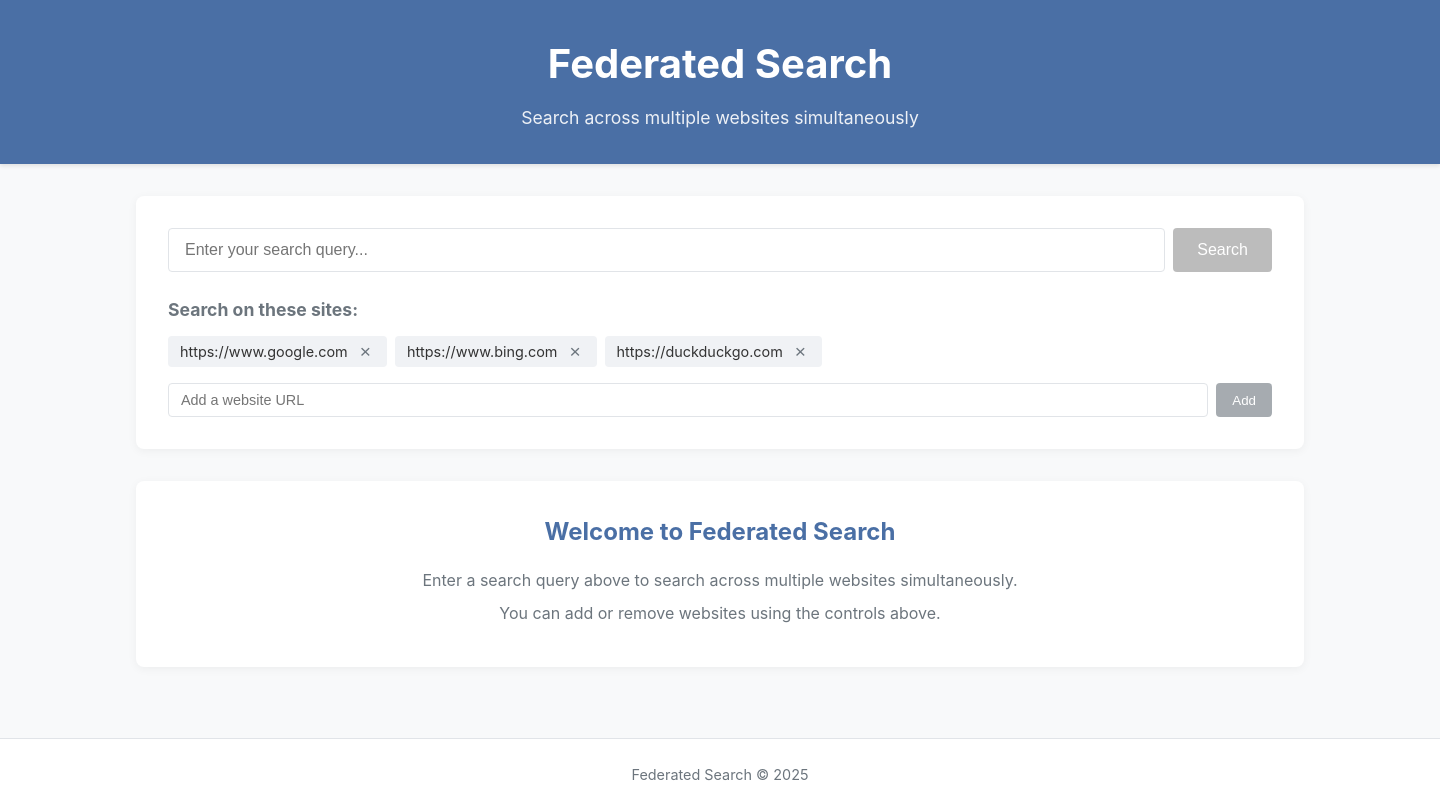
App › renders results after successful search
Step 1. Type "react" into the field with placeholder "Enter your search query..." → {"x": 667, "y": 250}, box [168,228,1165,272]
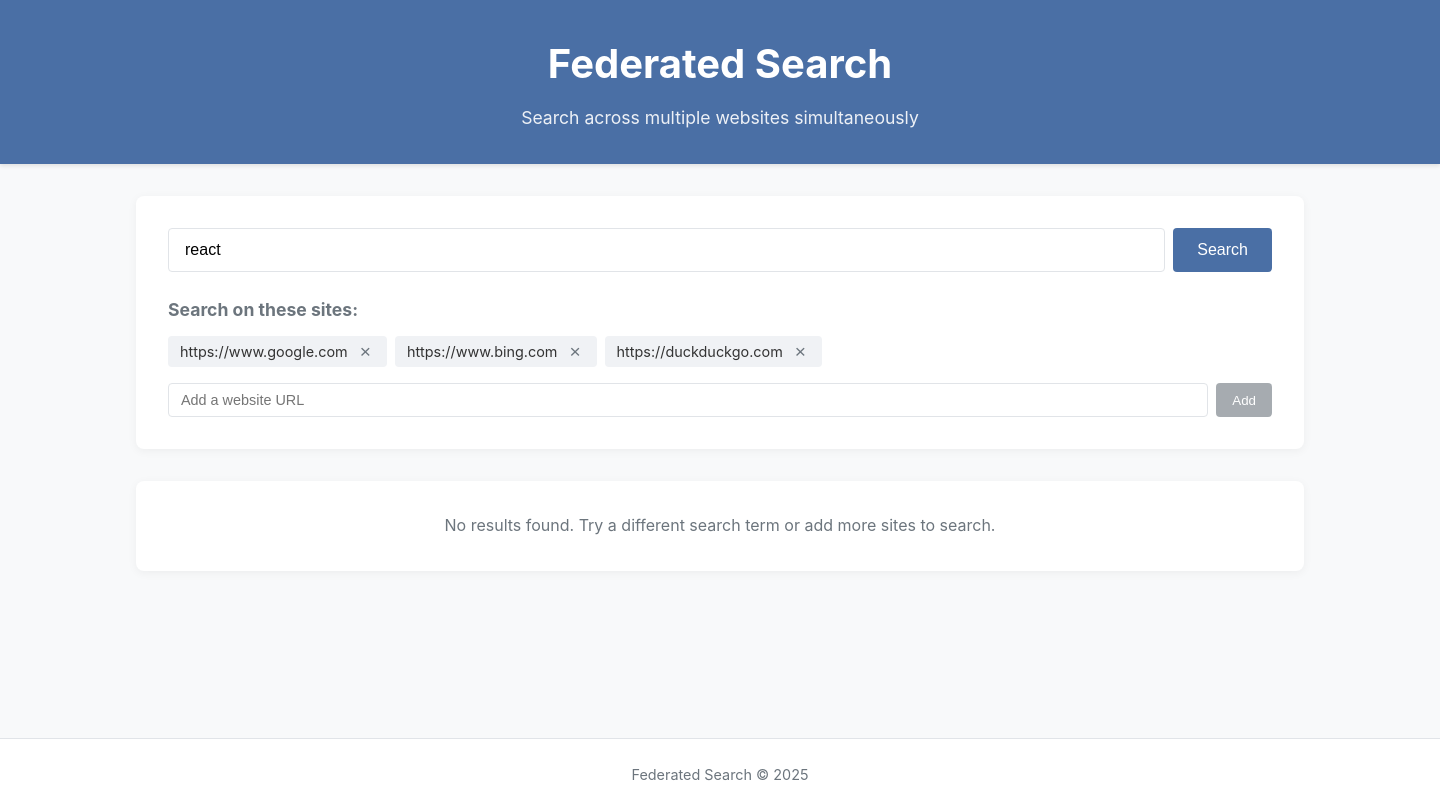
Step 2. Click the button "Search" → {"x": 1223, "y": 250}, box [1173,228,1272,272]
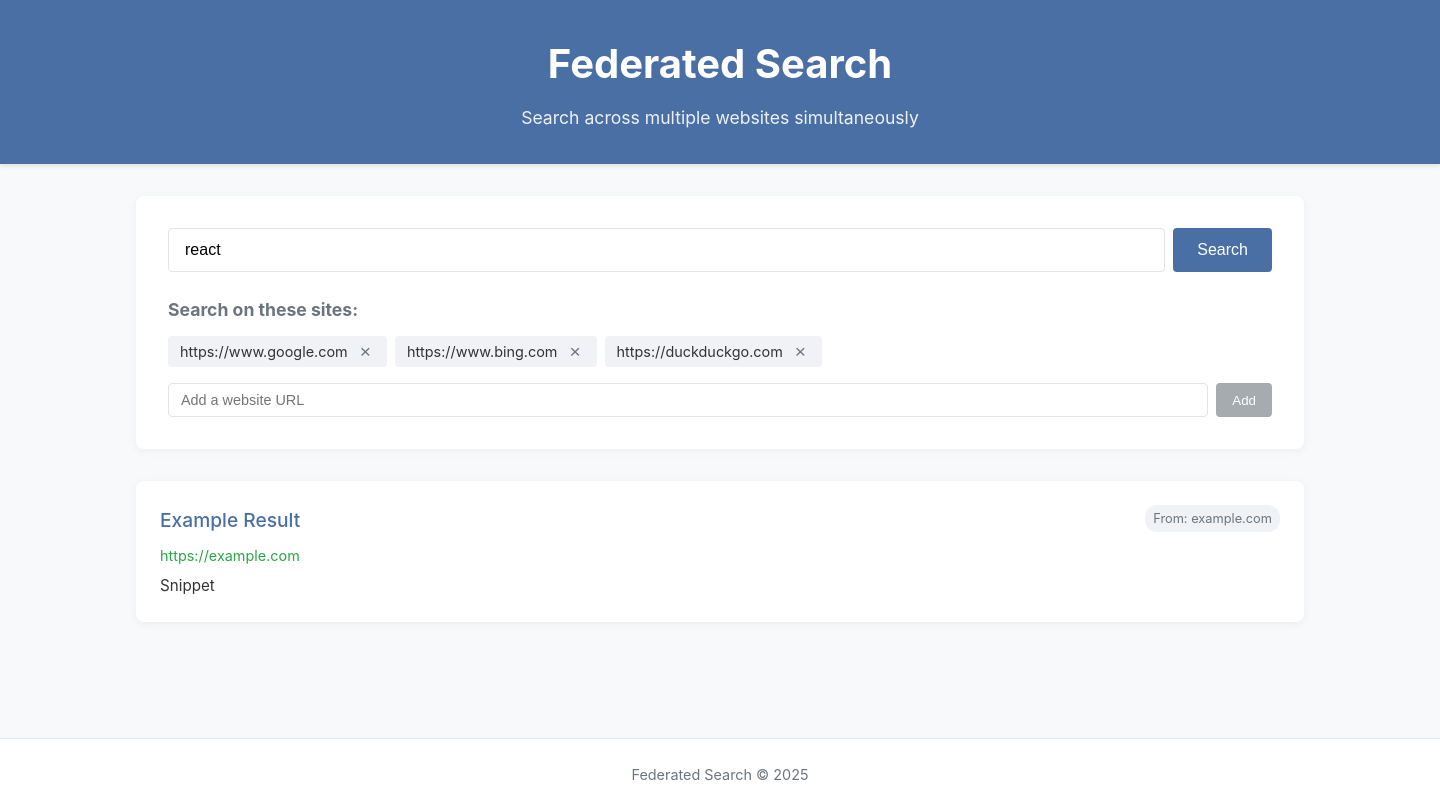
expect the link "Example Result" is shown: met, box [160,508,300,532]
